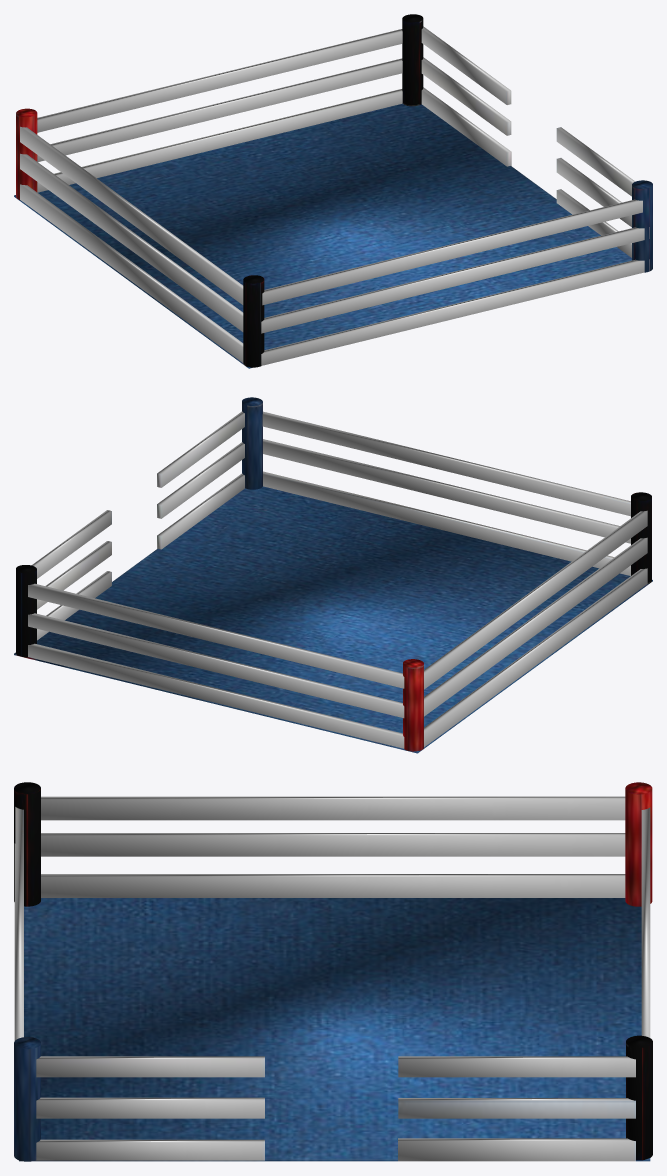
Rendered from boxing.dae.
3 renders of one model, top to bottom at view 1: azimuth 30°, elevation 25°; view 2: azimuth 150°, elevation 25°; view 3: azimuth 270°, elevation 25°, orthographic. The views are drawn at different scales.
Visible parts, largest first — view 1: Cylinder_001; view 2: Cylinder_001; view 3: Cylinder_001.
Boxes of the visible parts, box(x1,y1,x2,y2) form: Cylinder_001: box(14, 14, 652, 368); Cylinder_001: box(14, 397, 652, 753); Cylinder_001: box(14, 782, 652, 1161).
Bounding box in the file's own units: 2.05 × 2.07 × 0.4084.
20 materials, 20 textured.
